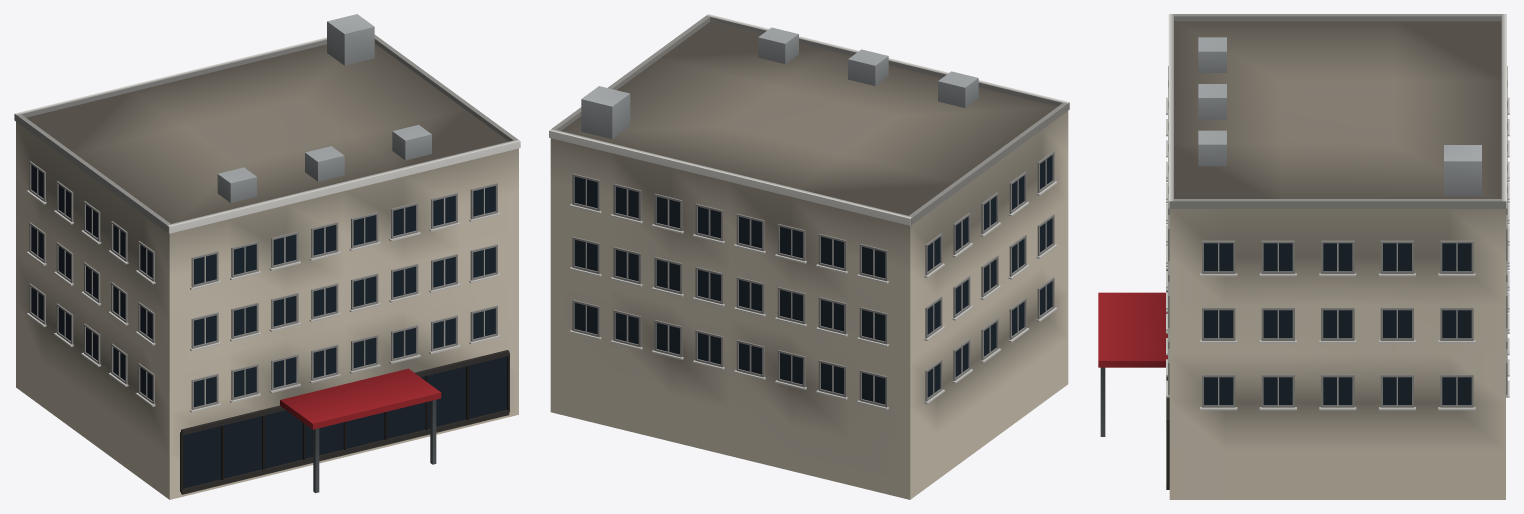
The model's file is hotel-D5OC1-6E.glb.
The picture shows the model from 3 angles, left to right: view 1: azimuth 30°, elevation 25°; view 2: azimuth 150°, elevation 25°; view 3: azimuth 270°, elevation 25°; orthographic projection. The views are drawn at different scales.
Parts seen in each view (by area): view 1: pieza, pieza.001, pieza.006, pieza.018, pieza.002, pieza.003, pieza.016, pieza.024, pieza.004, pieza.017, pieza.005, pieza.021 (+26 smaller); view 2: pieza, pieza.001, pieza.003, pieza.024, pieza.002, pieza.004, pieza.021, pieza.022, pieza.023, pieza.005, ventana.287, ventana.420 (+22 smaller); view 3: pieza, pieza.001, pieza.018, pieza.005, pieza.004, pieza.024, pieza.002, pieza.003, pieza.023, pieza.021, pieza.022, ventana.175 (+14 smaller).
Boxes of the visible parts, x1,y1,x2,y2 form: pieza: (16,122,518,499); pieza.001: (26,43,508,223); pieza.006: (183,356,506,488); pieza.018: (280,368,441,429); pieza.002: (167,139,520,233); pieza.003: (14,37,326,120); pieza.016: (181,409,509,494); pieza.024: (327,14,374,65); pieza.004: (15,114,170,232); pieza.017: (181,350,509,435); pieza.005: (374,35,517,141); pieza.021: (217,167,256,202); pieza: (550,111,1068,499); pieza.001: (561,21,1057,215); pieza.003: (549,129,912,225); pieza.024: (581,86,630,138); pieza.002: (706,14,1069,109); pieza.004: (909,103,1069,225); pieza.021: (938,71,978,107); pieza.022: (848,49,888,85); pieza.023: (758,27,798,64); pieza.005: (552,16,710,130); ventana.287: (574,240,597,271); ventana.420: (862,247,885,278); pieza: (1169,209,1505,499); pieza.001: (1174,21,1501,198); pieza.018: (1098,292,1167,367); pieza.005: (1169,199,1505,208); pieza.004: (1174,14,1501,21); pieza.024: (1444,145,1481,195); pieza.002: (1168,14,1173,208); pieza.003: (1501,14,1506,208); pieza.023: (1198,130,1226,166); pieza.021: (1198,37,1226,72); pieza.022: (1198,84,1226,119); ventana.175: (1442,377,1471,405).
Size of the model in its own units: 18.82 by 15.22 by 17.26.
